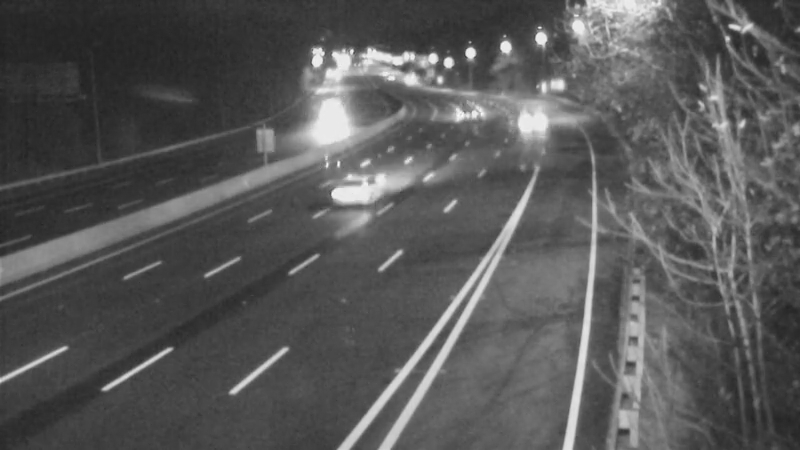vehicle: (317, 143, 397, 223), (384, 57, 434, 107), (497, 101, 547, 151), (438, 90, 488, 140), (311, 99, 361, 149)
